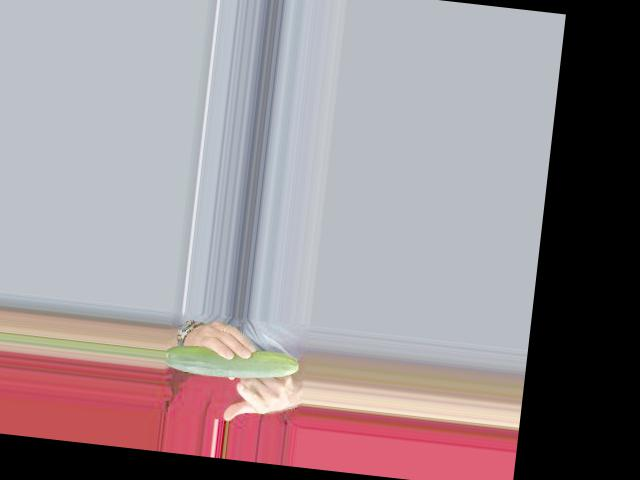cucumber: (162, 339, 299, 385)
